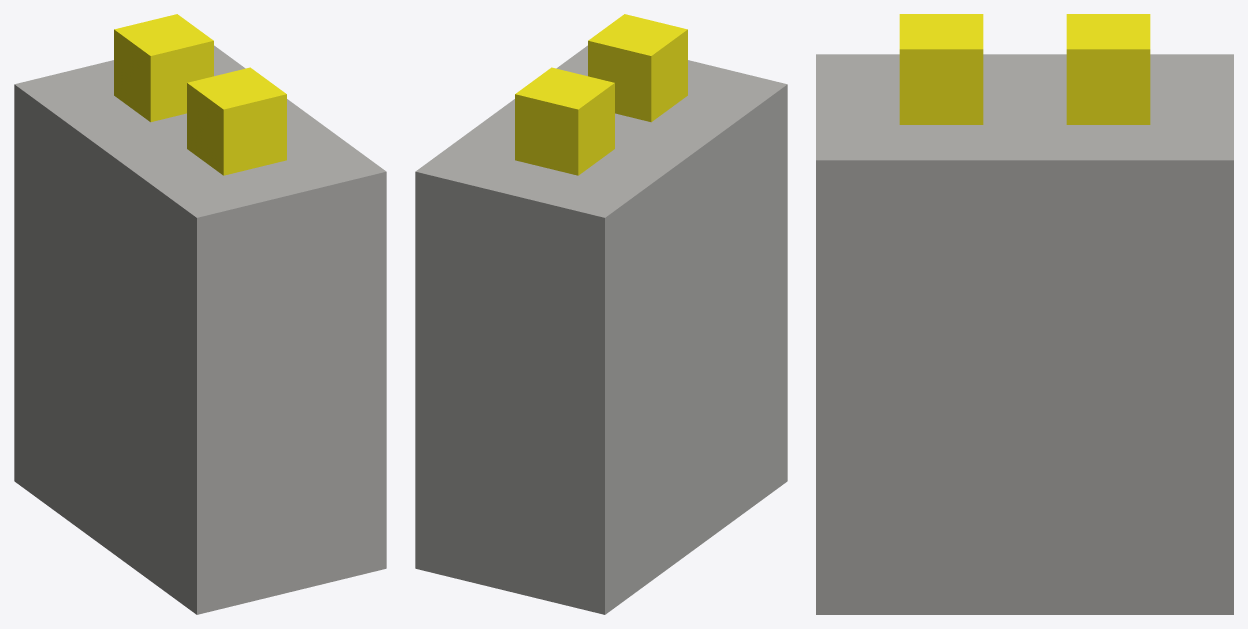
The model's file is metalbattery.dae.
3 views of the same model, side by side, from view 1: azimuth 30°, elevation 25°; view 2: azimuth 150°, elevation 25°; view 3: azimuth 270°, elevation 25° (orthographic). The views are drawn at different scales.
Visible parts, largest first — view 1: metalbattery; view 2: metalbattery; view 3: metalbattery.
Part boxes in pixels (left/top/right/bottom): metalbattery: left=14, top=14, right=386, bottom=614; metalbattery: left=415, top=14, right=787, bottom=614; metalbattery: left=816, top=14, right=1233, bottom=614.
Bounding box in the file's own units: 3 × 7 × 5.
